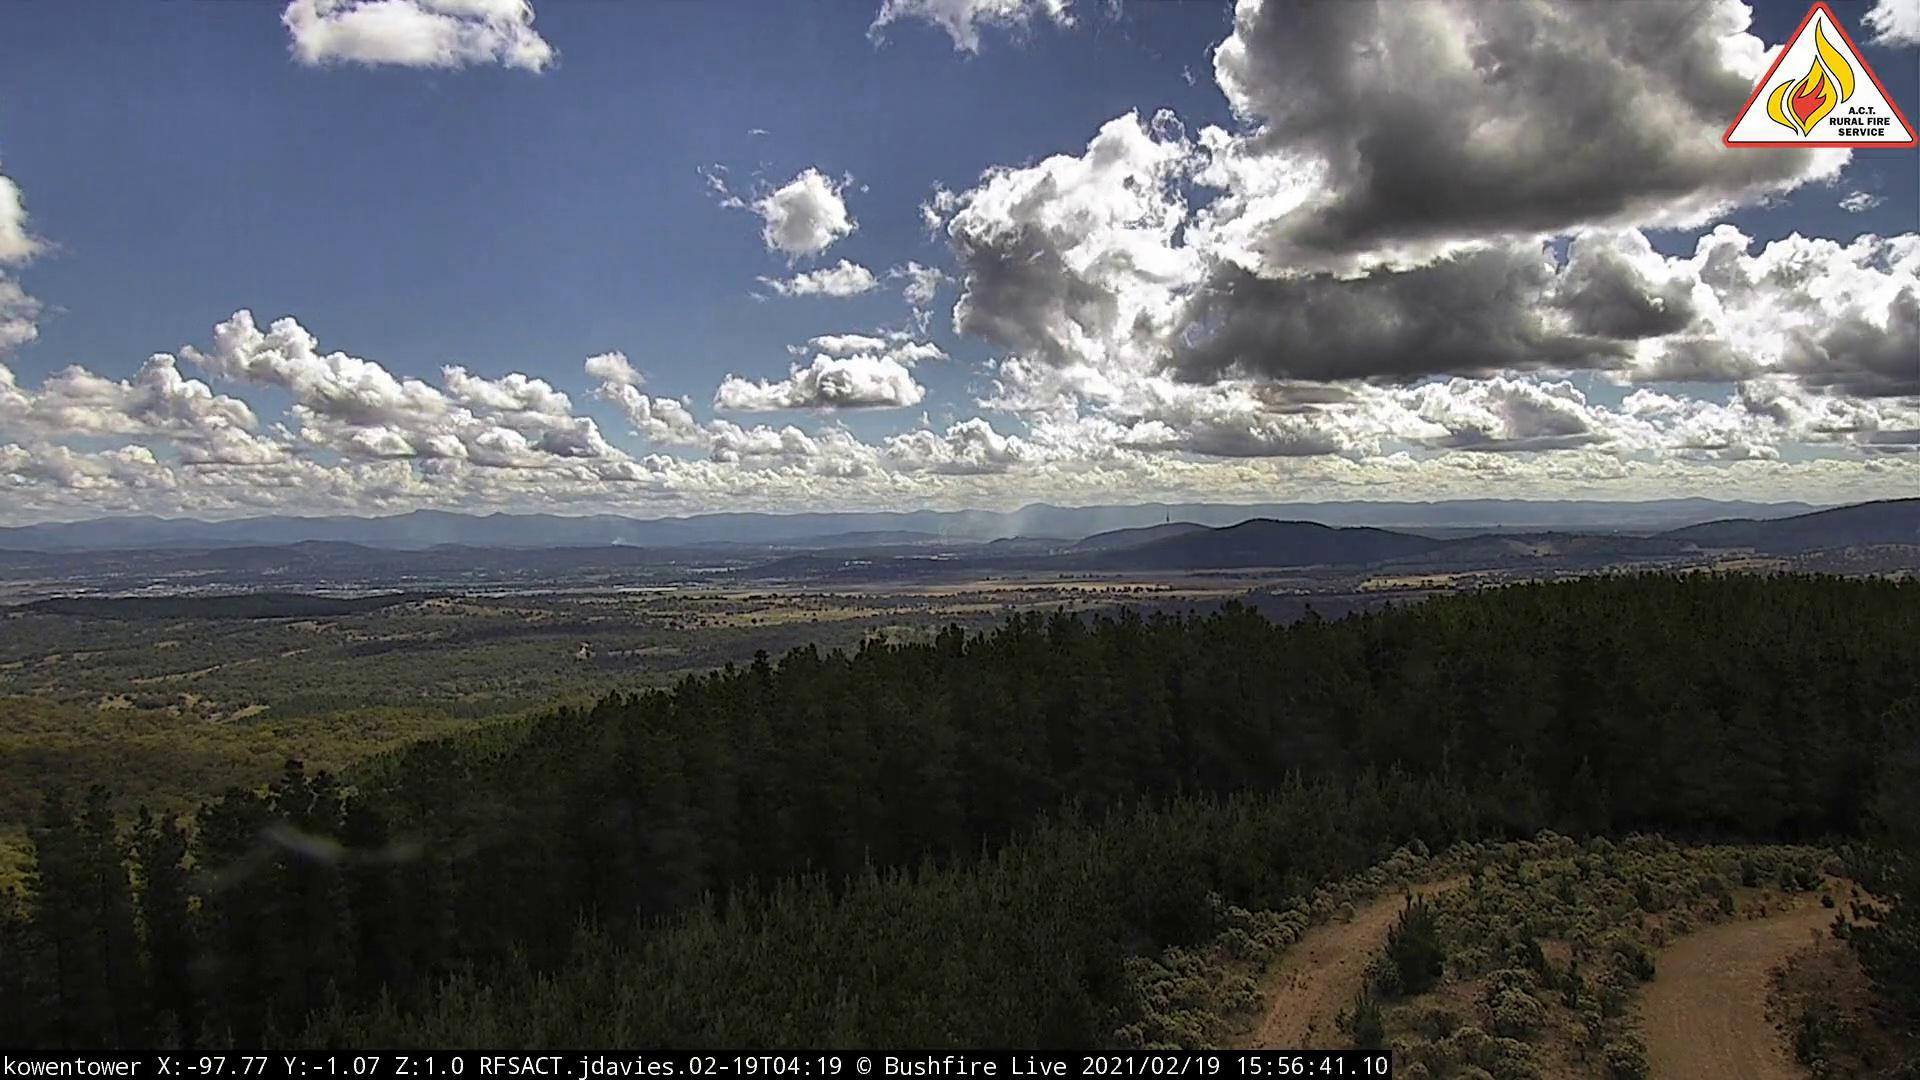Smoke: (935, 496, 1036, 553), (611, 531, 638, 553)
